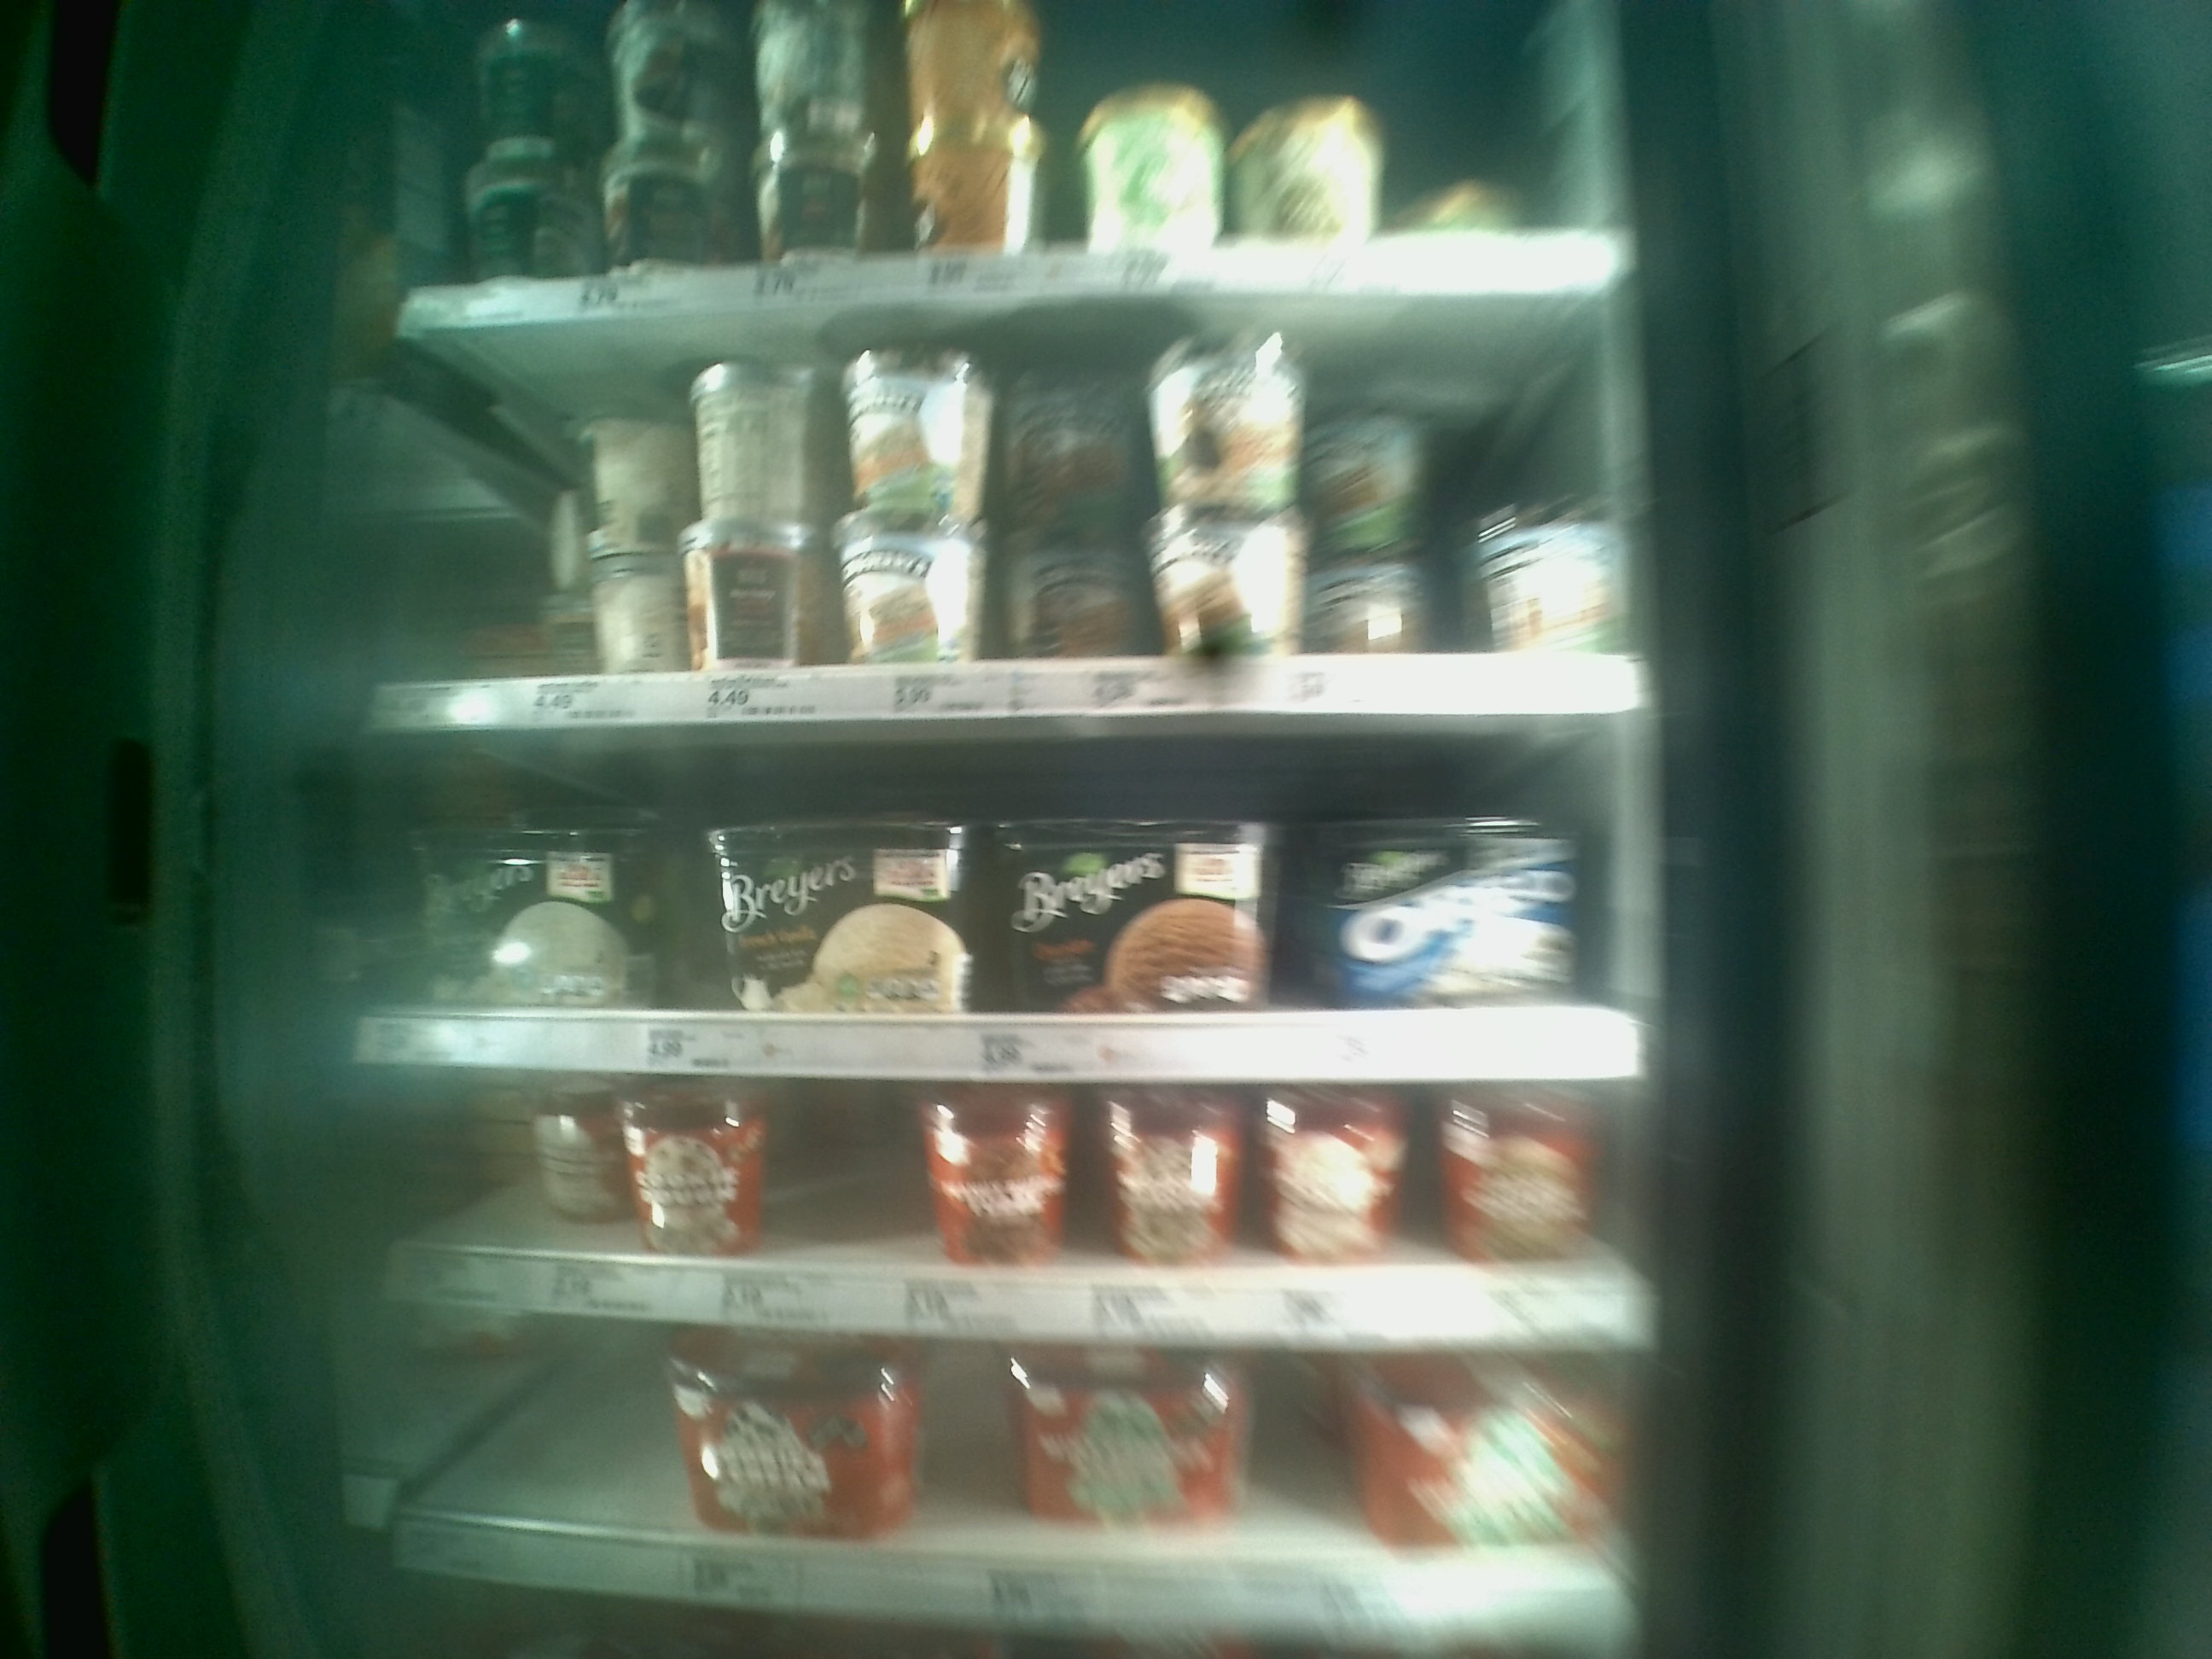ice-cream-shelf: (340, 723, 1656, 1086)
